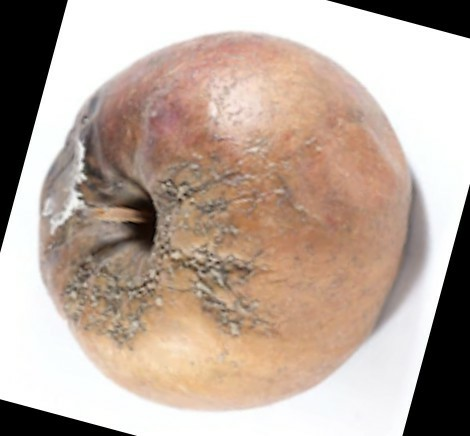rotten_apple: (39, 31, 413, 410)
